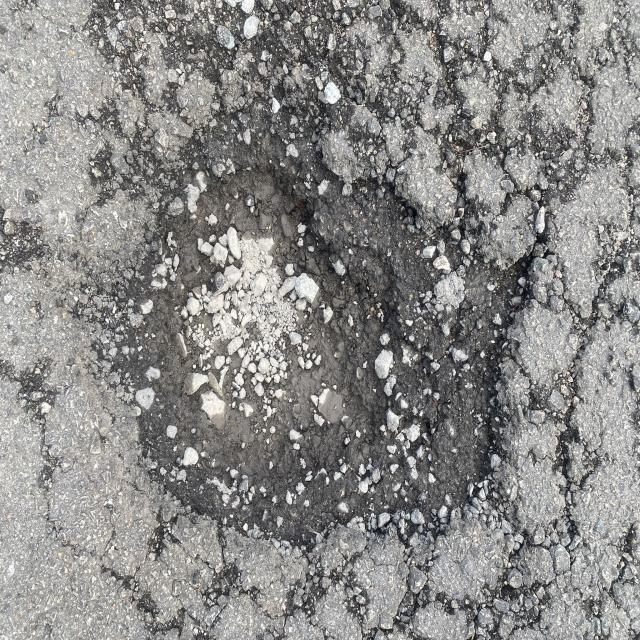pothole: (86, 99, 543, 543)
